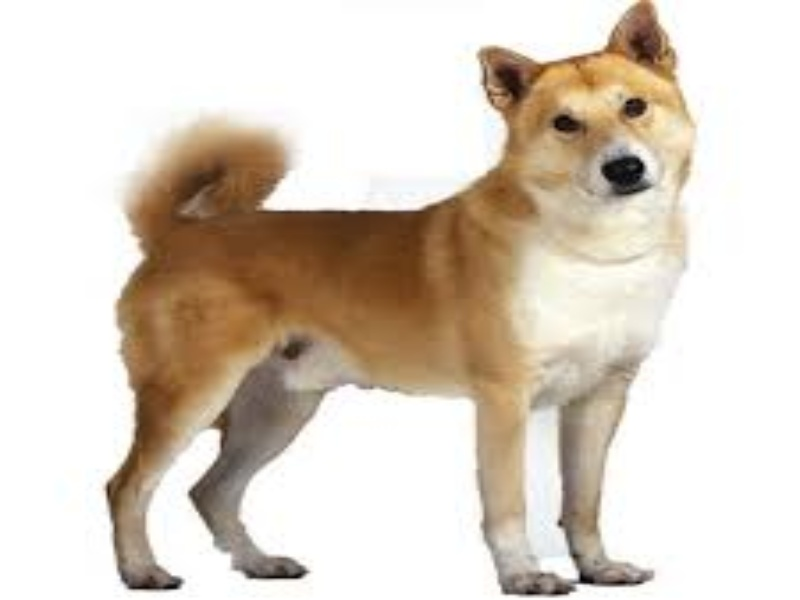dog: (106, 4, 701, 594)
